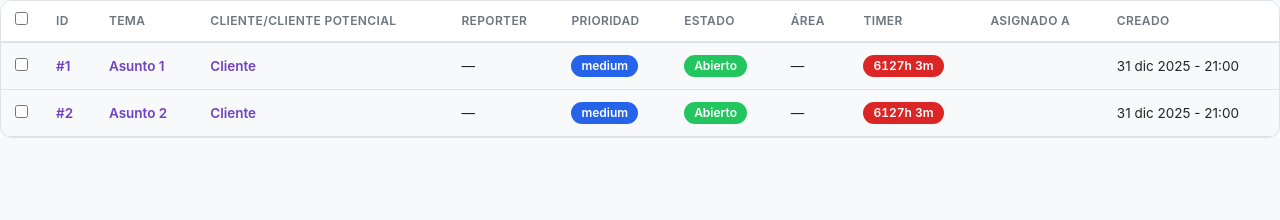
TicketsTableView — bulk Archivar › renders "Archivar" button when permissions include tickets.manage
This screenshot has width=1280, height=220.
Step 1. Click the checkbox named "Seleccionar todos" → (22, 18), box x1=15 y1=12 x2=28 y2=25
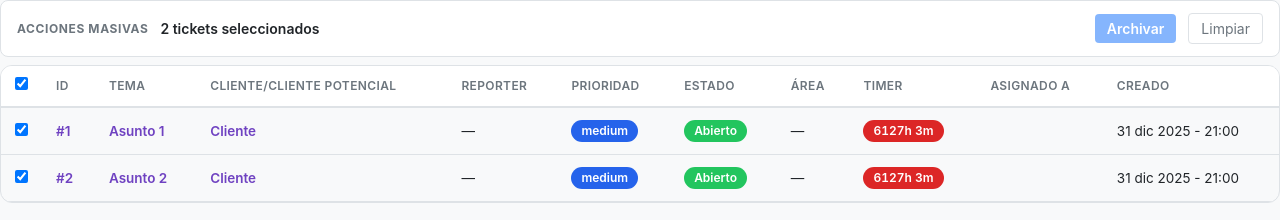
Now the button "Archivar" is shown, box x1=1095 y1=14 x2=1176 y2=43
